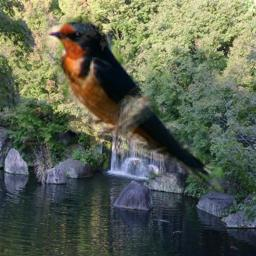Swallow: (42, 14, 226, 193)
